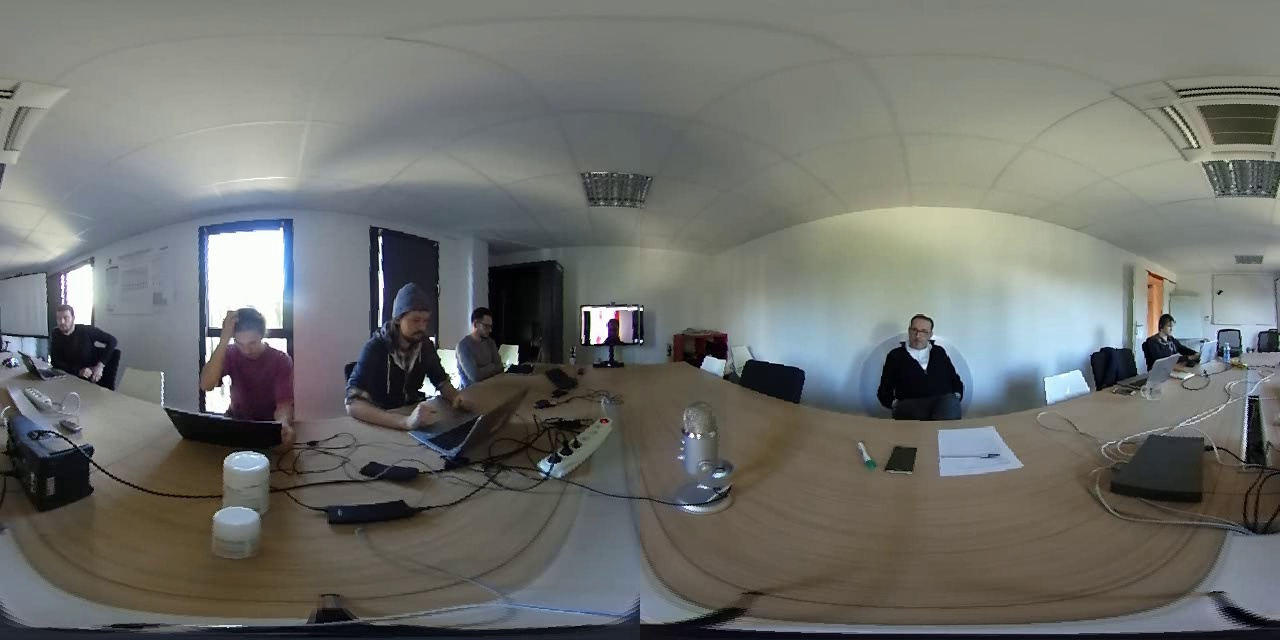person: (331, 266, 452, 435), (195, 297, 314, 445), (869, 300, 981, 429), (31, 295, 123, 391), (457, 294, 513, 383), (1138, 306, 1198, 362), (588, 307, 637, 342)
